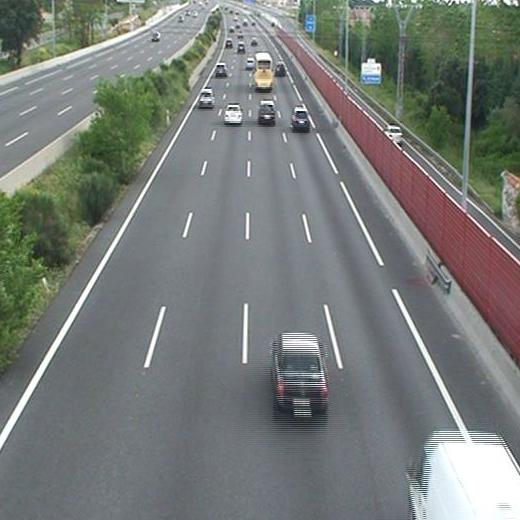bus: (255, 53, 272, 90)
car: (274, 334, 326, 406), (292, 108, 309, 130), (259, 100, 276, 122), (224, 105, 242, 124), (199, 90, 214, 107), (215, 63, 227, 75), (274, 62, 285, 74), (245, 58, 256, 69), (237, 42, 245, 52), (226, 40, 234, 48)
